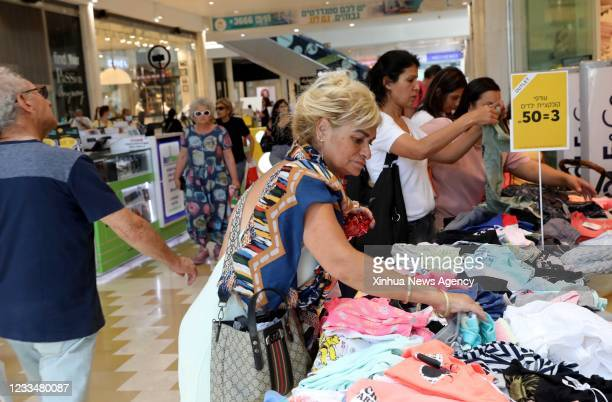without_mask: (333, 117, 377, 176), (23, 80, 63, 130), (397, 68, 421, 107), (443, 82, 462, 114), (193, 105, 212, 127), (275, 99, 289, 117), (215, 102, 230, 118)
